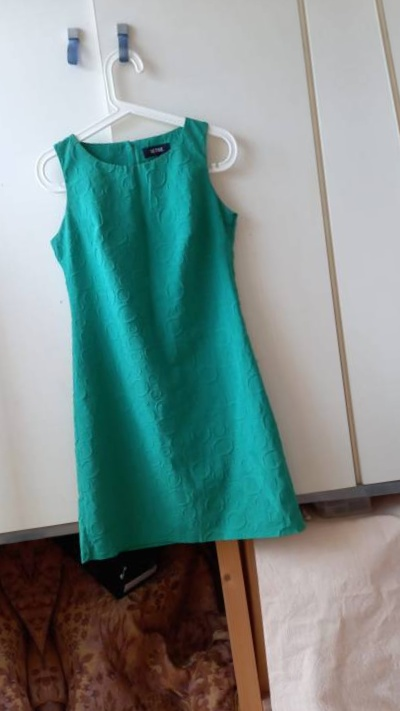Dress: (0, 67, 357, 613), (0, 119, 8, 666)
